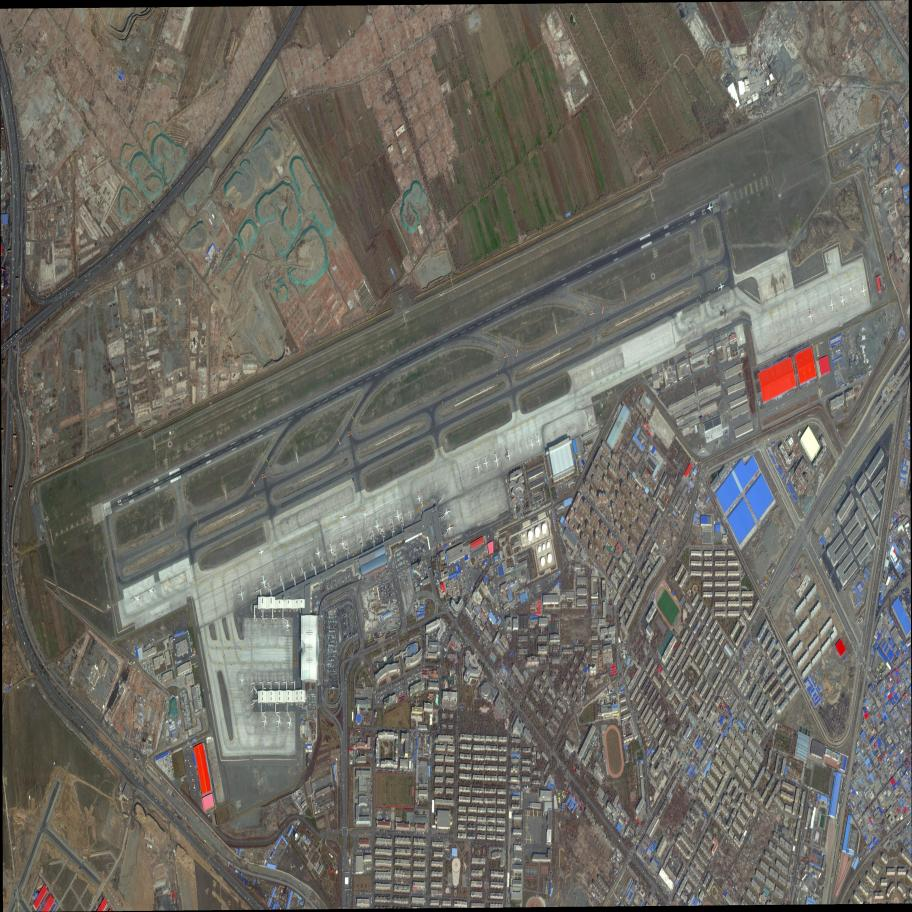plane: (490, 451, 502, 469), (258, 573, 269, 592), (236, 585, 247, 603), (705, 198, 715, 217), (337, 534, 348, 551), (805, 307, 816, 324), (473, 458, 483, 476), (259, 715, 271, 730), (858, 282, 869, 298), (313, 544, 323, 561), (442, 504, 453, 519), (285, 716, 296, 731), (413, 489, 423, 505), (372, 518, 382, 534), (481, 455, 491, 471), (826, 296, 836, 312), (527, 436, 537, 452), (445, 520, 456, 534), (393, 507, 403, 522), (326, 541, 336, 556), (274, 715, 284, 730), (534, 432, 544, 447), (504, 447, 513, 463), (338, 511, 349, 524), (716, 280, 726, 294), (147, 584, 156, 598), (133, 593, 143, 605), (587, 367, 596, 380), (838, 293, 847, 306), (257, 544, 265, 558), (283, 619, 291, 633), (361, 507, 368, 520), (826, 256, 833, 269), (239, 673, 245, 686), (737, 333, 743, 345), (848, 284, 854, 294)
